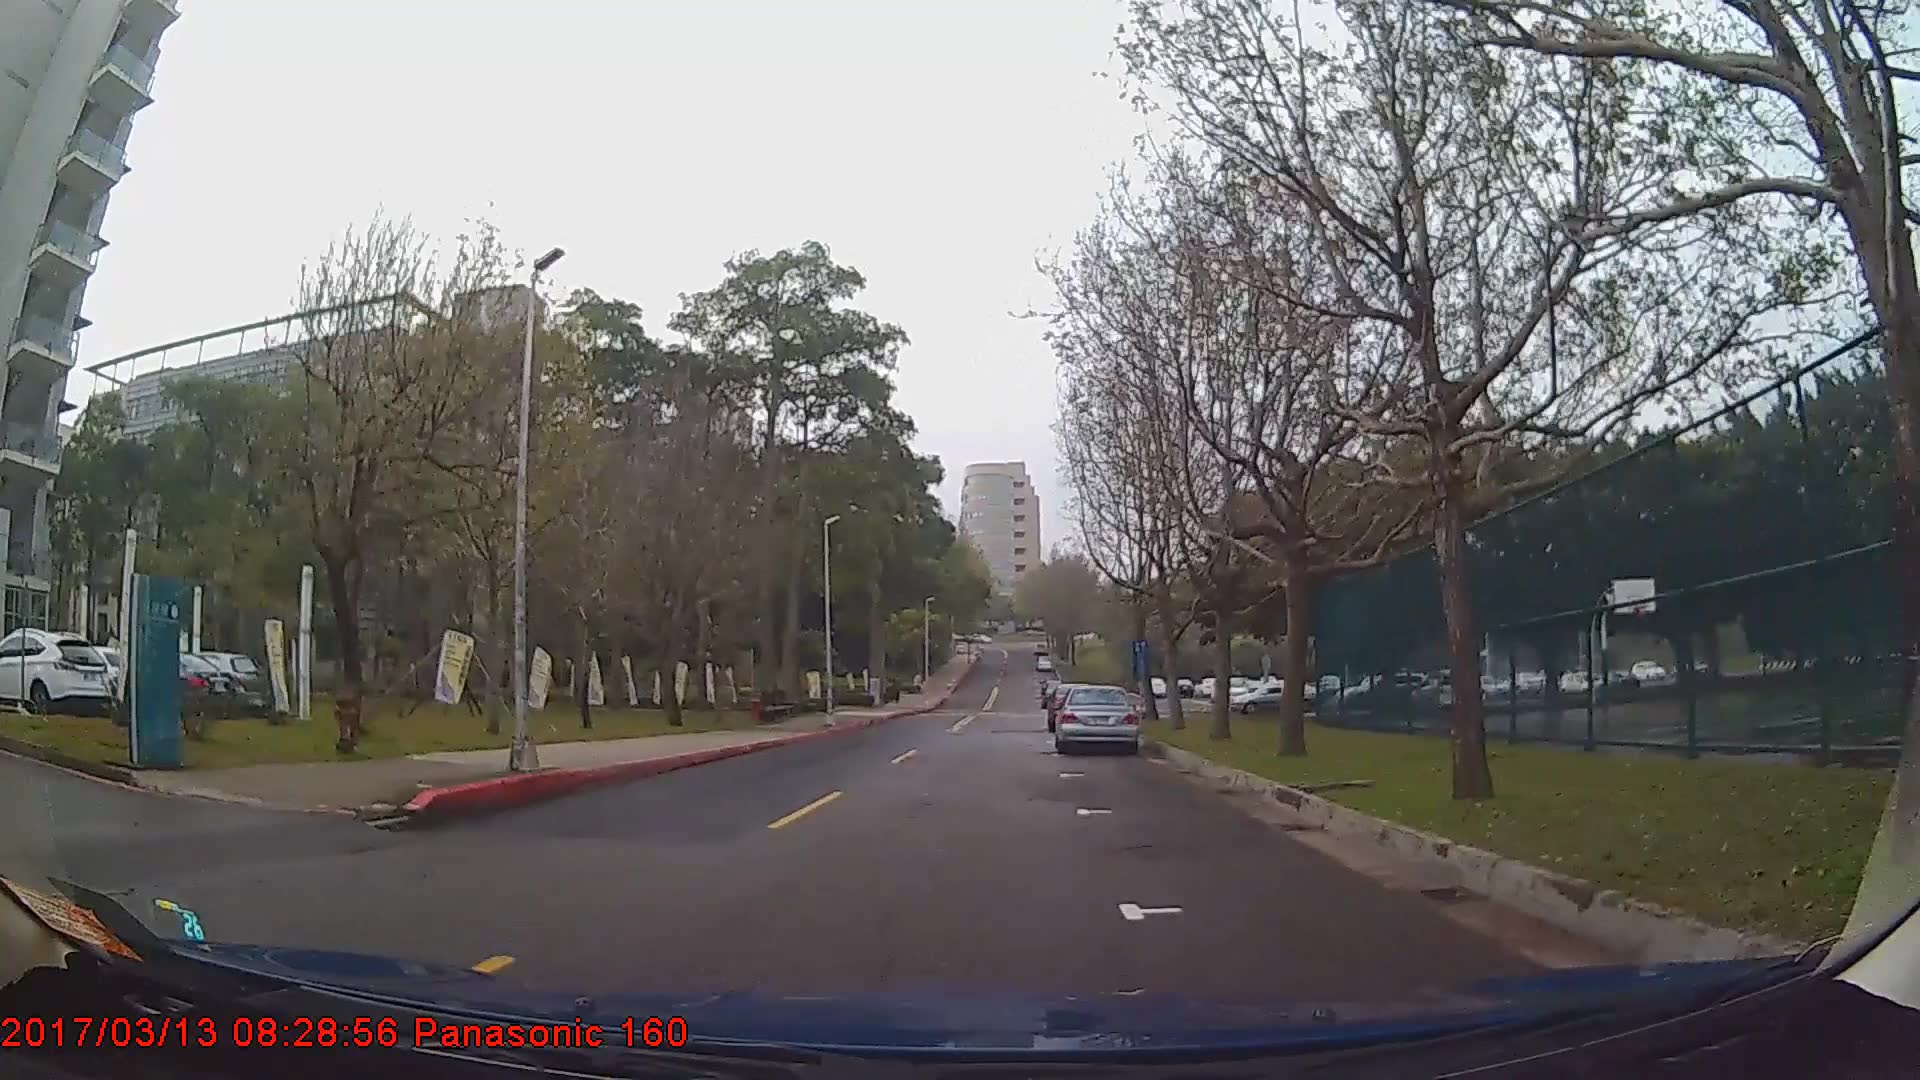vehicle: (0, 625, 109, 713), (44, 641, 160, 713), (1054, 683, 1139, 756), (189, 649, 266, 715), (1232, 680, 1316, 715)
